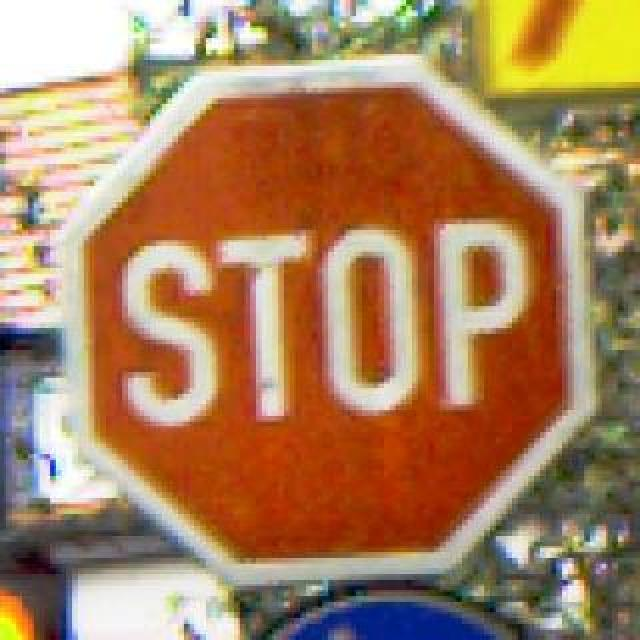stop: (56, 48, 590, 580)
